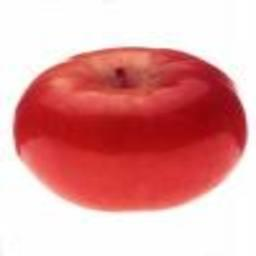apple: (14, 44, 249, 212)
